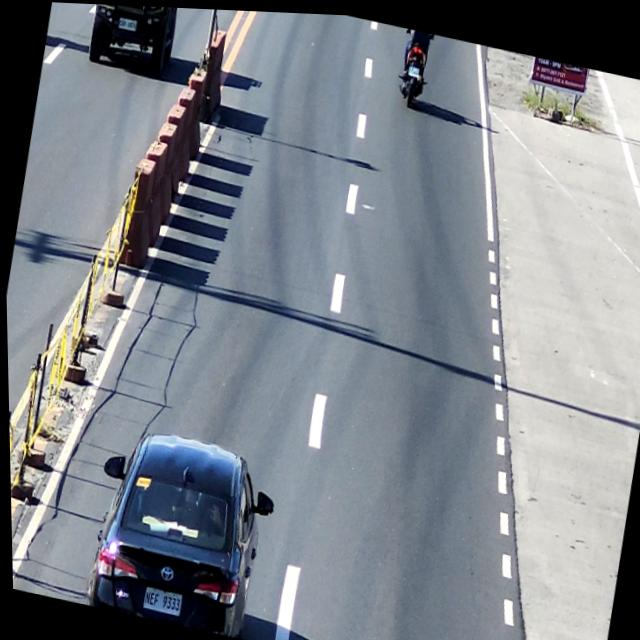Car: (82, 423, 272, 638), (82, 3, 184, 78)
License-Plate: (136, 581, 183, 624), (115, 13, 139, 32), (405, 60, 420, 78)
Motorcycle: (393, 24, 435, 106)
